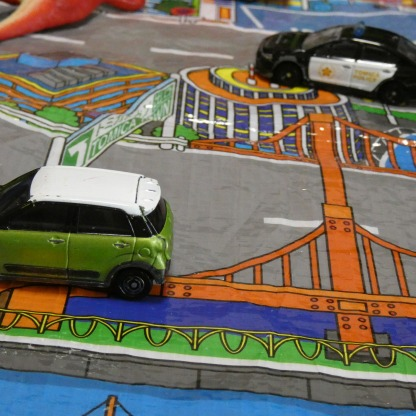car: (0, 167, 171, 297), (255, 19, 416, 103)
